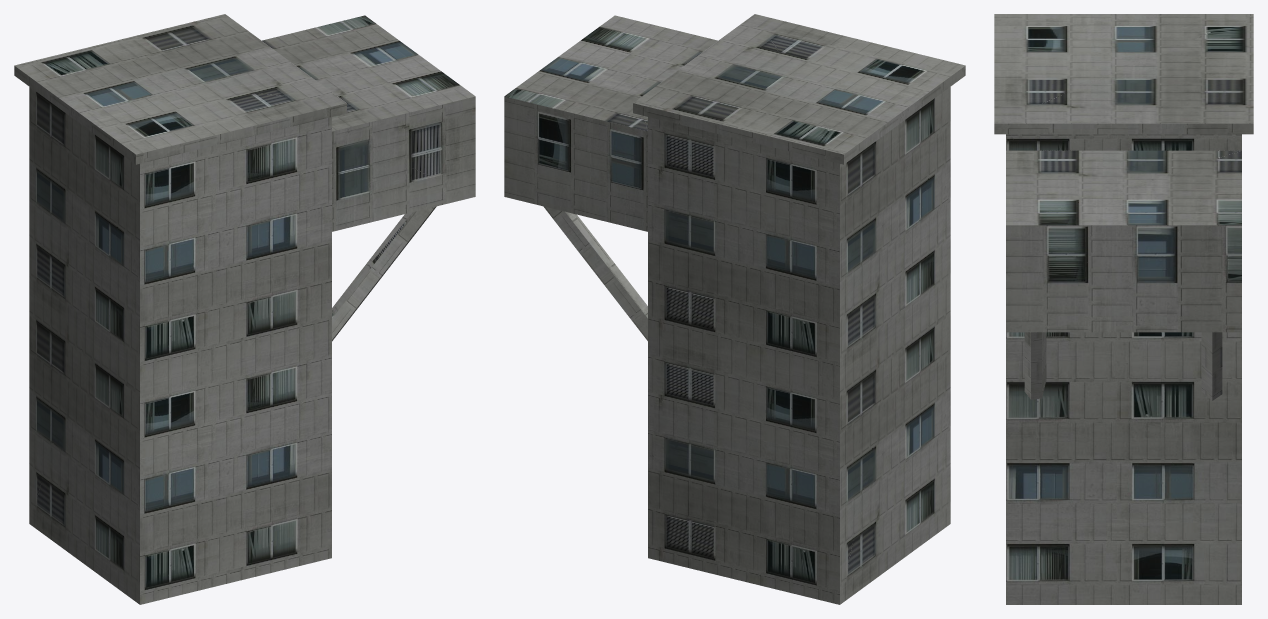
Rendered from middle4.dae.
3 views of the same model, side by side, from view 1: azimuth 30°, elevation 25°; view 2: azimuth 150°, elevation 25°; view 3: azimuth 270°, elevation 25° (orthographic). The views are drawn at different scales.
Visible parts, largest first — view 1: Cylinder_001; view 2: Cylinder_001; view 3: Cylinder_001.
Boxes of the visible parts, left/top/right/bottom form: Cylinder_001: left=14, top=14, right=475, bottom=604; Cylinder_001: left=504, top=14, right=965, bottom=604; Cylinder_001: left=994, top=14, right=1253, bottom=604.
Bounding box in the file's own units: 7.2 × 4.4 × 9.1.
Materials: 1 (1 with a texture image).
